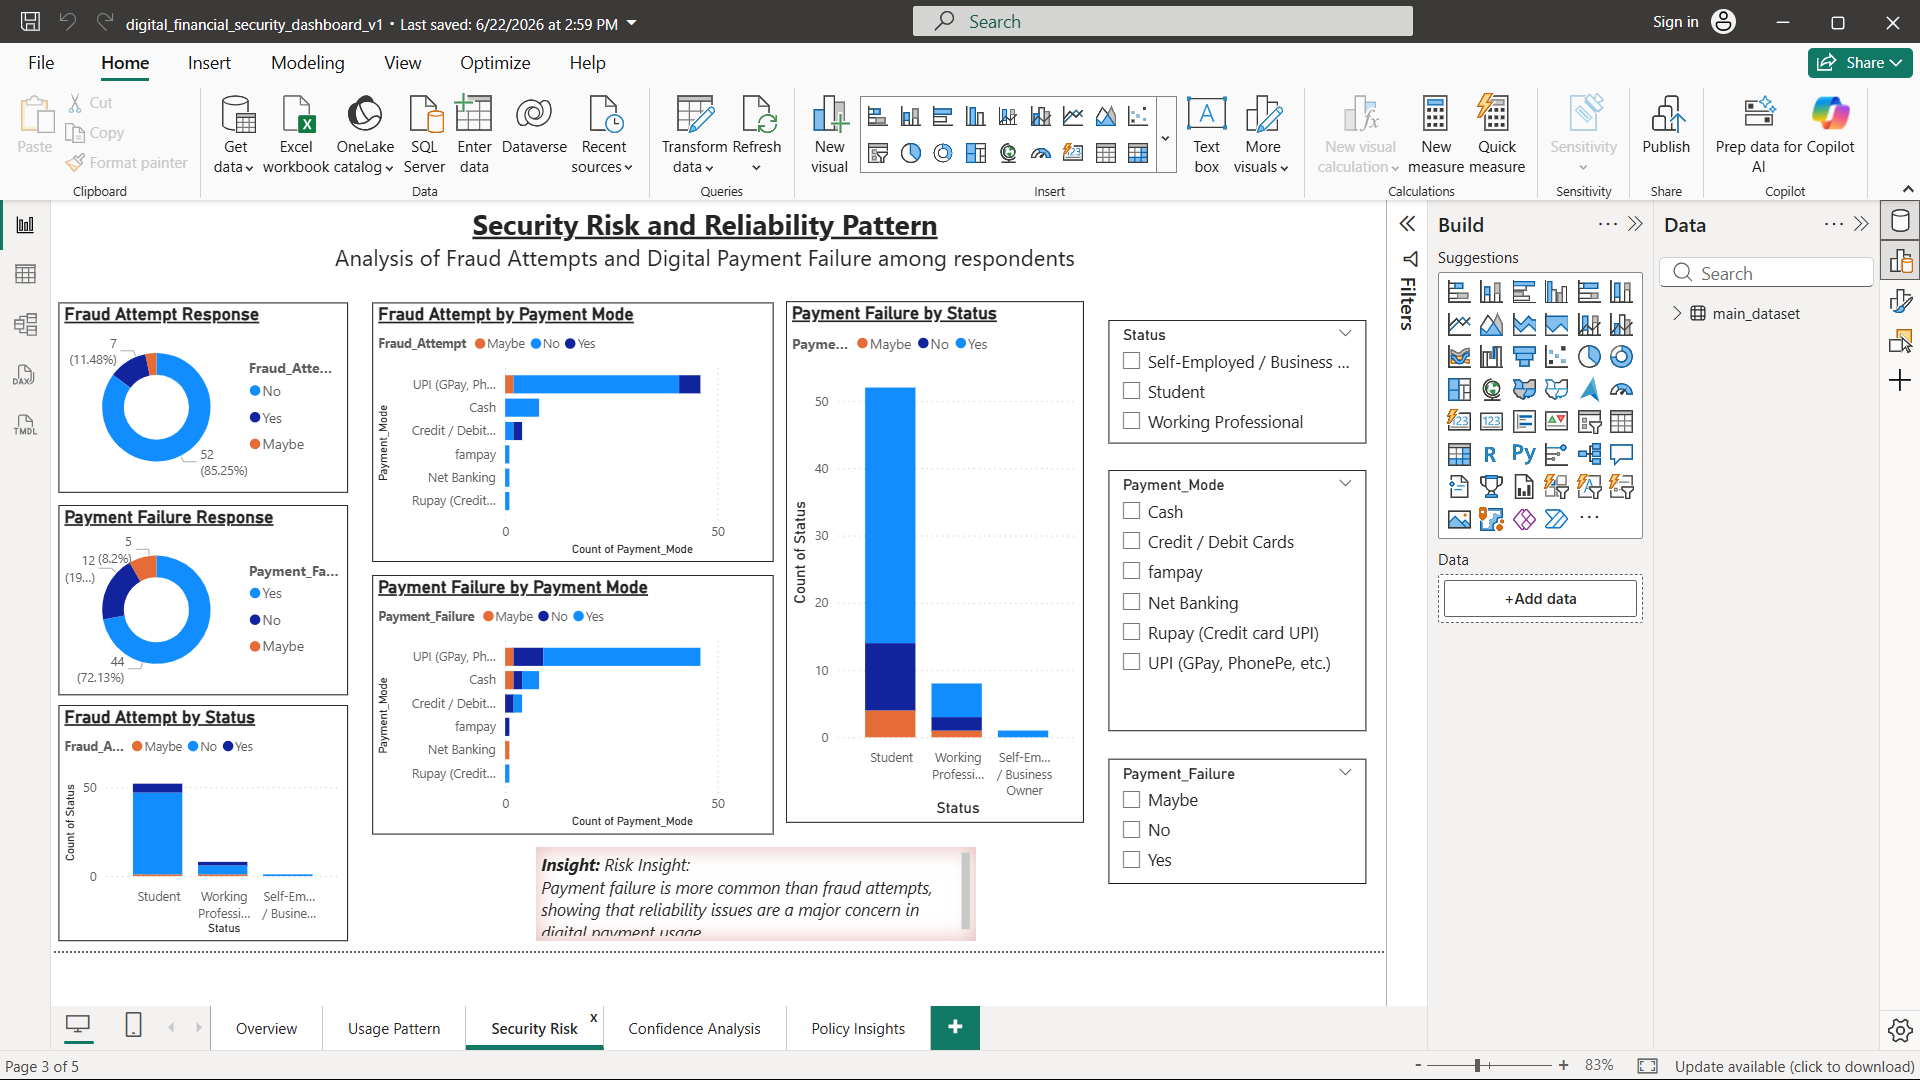

The dashboard page shown, as its layout file describes it:
{"tool":"powerbi","page":{"name":"Security Risk","canvas":[1280,720],"ordinal":2},"visuals":[{"type":"textbox","box":[10,0,1235,73.8],"z":0},{"type":"donutChart","title":"Fraud Attempt Response","fields":{"Category":["main_dataset.Fraud_Attempt"],"Y":["CountNonNull(main_dataset.Fraud_Attempt)"]},"box":[7.5,98.8,277.5,182.5],"z":1000},{"type":"donutChart","title":"Payment Failure Response","fields":{"Category":["main_dataset.Payment_Failure"],"Y":["CountNonNull(main_dataset.Payment_Failure)"]},"box":[7.5,292.5,277.5,182.5],"z":2000},{"type":"columnChart","title":"Fraud Attempt by Status","fields":{"Category":["main_dataset.Status"],"Series":["main_dataset.Fraud_Attempt"],"Y":["CountNonNull(main_dataset.Status)"]},"box":[7.5,483.8,277.5,226.2],"z":3000},{"type":"columnChart","title":"Payment Failure by Status","fields":{"Category":["main_dataset.Status"],"Series":["main_dataset.Payment_Failure"],"Y":["CountNonNull(main_dataset.Status)"]},"box":[704.7,96.9,285.9,500],"z":4000},{"type":"barChart","title":"Fraud Attempt by Payment Mode","fields":{"Category":["main_dataset.Payment_Mode"],"Series":["main_dataset.Fraud_Attempt"],"Y":["CountNonNull(main_dataset.Payment_Mode)"]},"box":[307.5,98.8,385,248.8],"z":5000},{"type":"barChart","title":"Payment Failure by Payment Mode","fields":{"Category":["main_dataset.Payment_Mode"],"Series":["main_dataset.Payment_Failure"],"Y":["CountNonNull(main_dataset.Payment_Mode)"]},"box":[307.5,360,385,248.8],"z":6000},{"type":"slicer","title":"Payment Failure by Status","fields":{"Values":["main_dataset.Status"]},"box":[1014.1,115.6,246.9,118.8],"z":7000},{"type":"slicer","title":"Payment Failure by Status","fields":{"Values":["main_dataset.Payment_Failure"]},"box":[1014.1,535.9,246.9,120.3],"z":8000},{"type":"slicer","fields":{"Values":["main_dataset.Payment_Mode"]},"box":[1014.1,259.4,246.9,250],"z":9000},{"type":"textbox","box":[464.6,620.4,421.3,89.5],"z":10000}]}

Visuals, with their boxes on the page's 1280x720 design canvas (x1, y1, x2, y2). These are canvas units, not pixel positions in the 1920x1080 screenshot, which may show the page scaled, cropped or inside an application window:
textbox: detection(10, 0, 1245, 74)
"Fraud Attempt Response" donutChart: detection(8, 99, 285, 281)
"Payment Failure Response" donutChart: detection(8, 292, 285, 475)
"Fraud Attempt by Status" columnChart: detection(8, 484, 285, 710)
"Payment Failure by Status" columnChart: detection(705, 97, 991, 597)
"Fraud Attempt by Payment Mode" barChart: detection(308, 99, 692, 348)
"Payment Failure by Payment Mode" barChart: detection(308, 360, 692, 609)
"Payment Failure by Status" slicer: detection(1014, 116, 1261, 234)
"Payment Failure by Status" slicer: detection(1014, 536, 1261, 656)
slicer - main_dataset.Payment_Mode: detection(1014, 259, 1261, 509)
textbox: detection(465, 620, 886, 710)
